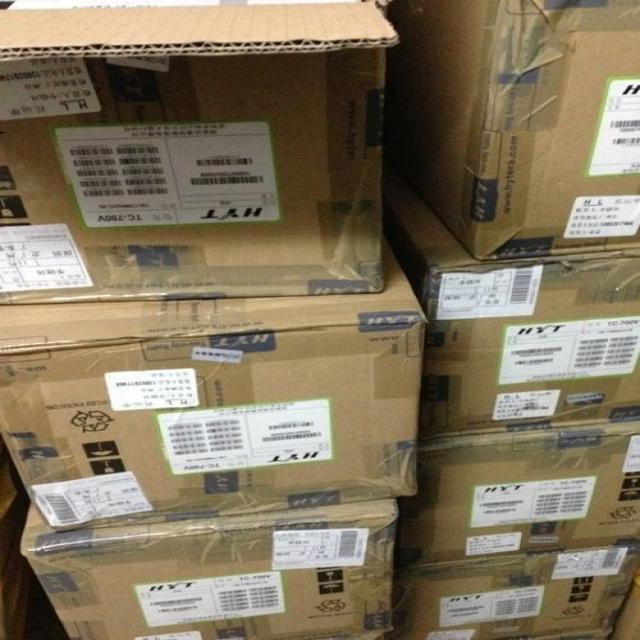box: (0, 2, 399, 304), (0, 250, 425, 533), (389, 163, 640, 440), (380, 0, 640, 261), (20, 501, 398, 640), (393, 423, 640, 569), (389, 545, 640, 640), (6, 0, 355, 10), (611, 571, 640, 640)
